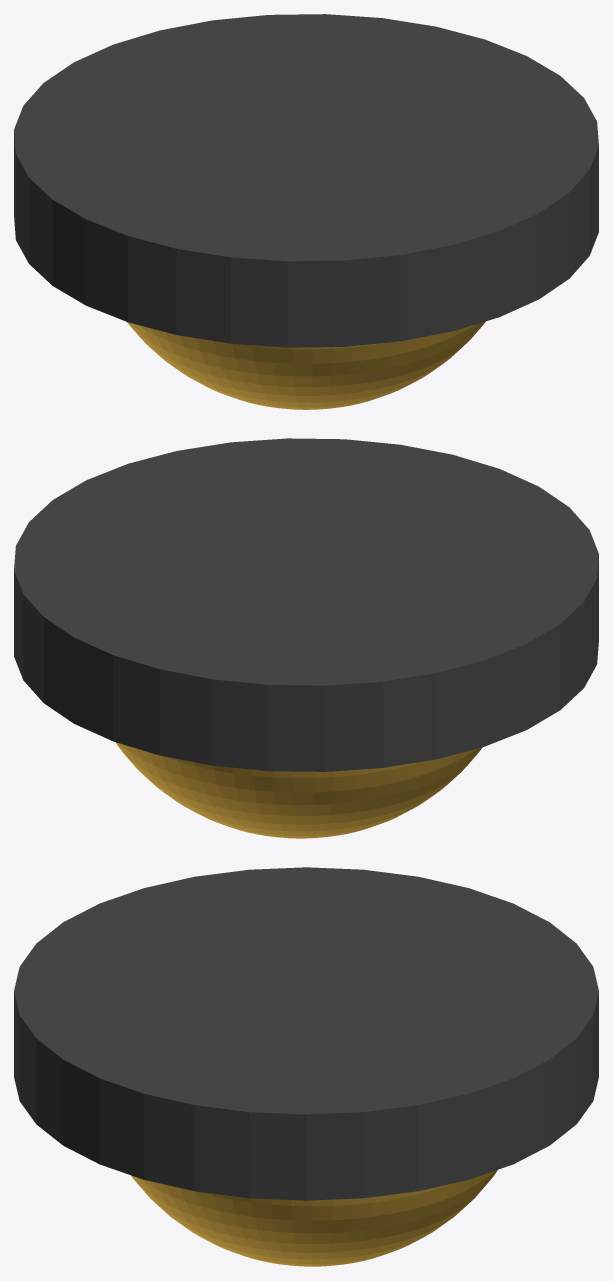
The model's file is Lamp.fbx.
3 renders of one model, top to bottom at view 1: azimuth 30°, elevation 25°; view 2: azimuth 150°, elevation 25°; view 3: azimuth 270°, elevation 25°, orthographic.
Parts seen in each view (by area): view 1: Cylinder, Sphere; view 2: Cylinder, Sphere; view 3: Cylinder, Sphere.
Part boxes in pixels (bbox=[...]): Cylinder: bbox=[14, 14, 598, 347]; Sphere: bbox=[127, 321, 485, 409]; Cylinder: bbox=[14, 438, 598, 771]; Sphere: bbox=[115, 742, 482, 838]; Cylinder: bbox=[14, 867, 598, 1200]; Sphere: bbox=[131, 1170, 497, 1266].
Size of the model in its own units: 254 by 122 by 254.
